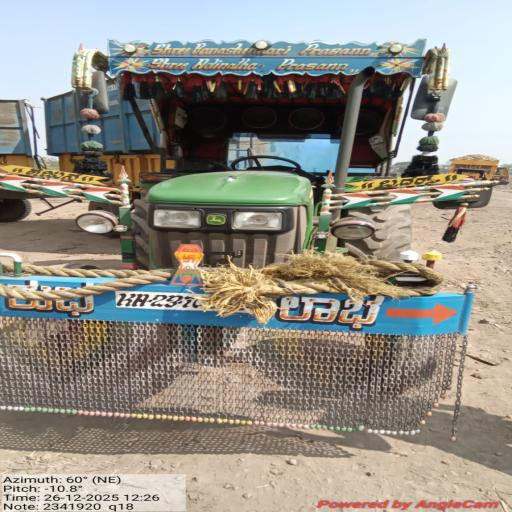number_plate: (104, 288, 278, 320)
